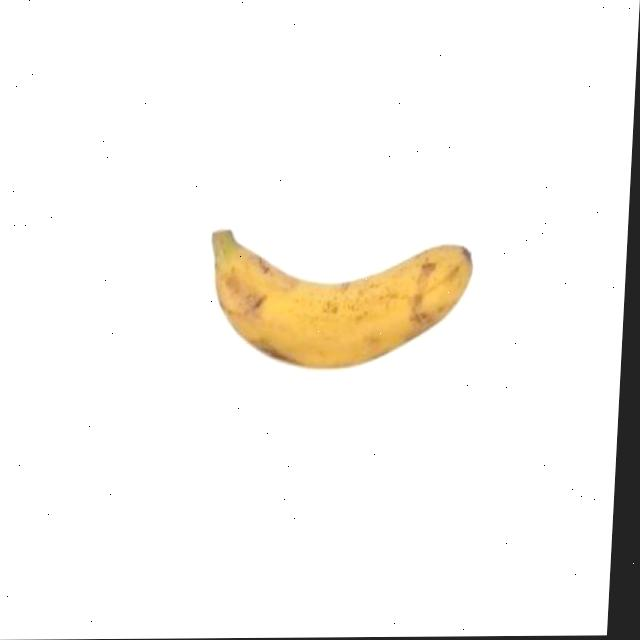banana: (202, 225, 477, 372)
